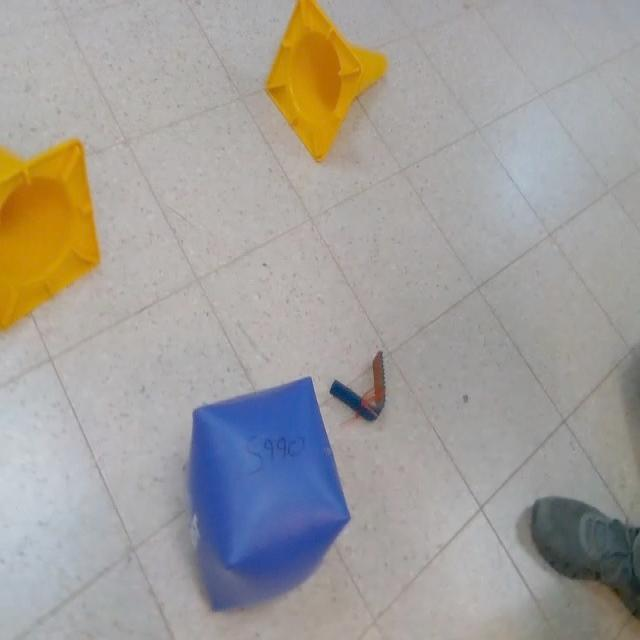cone: (0, 135, 106, 333), (265, 0, 389, 164)
cube: (182, 378, 352, 605)
